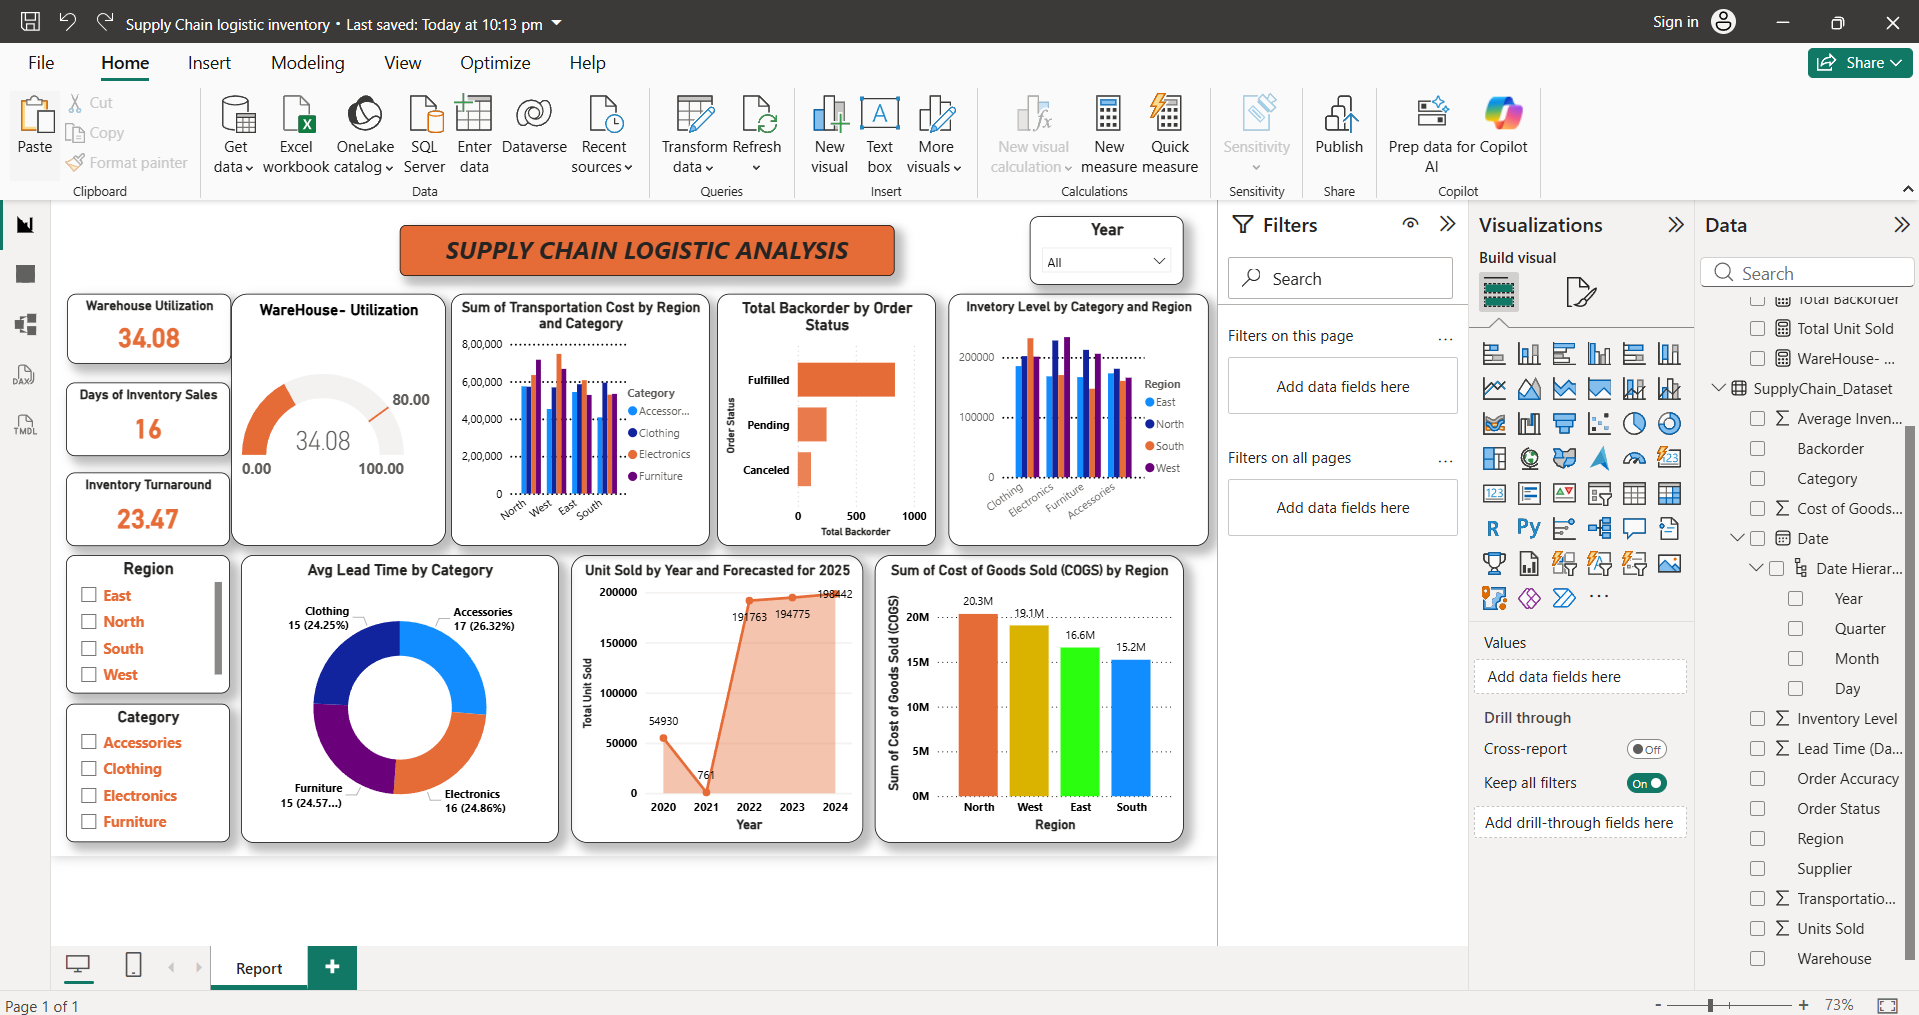

What the dashboard file says about the page in this screenshot:
{"tool":"powerbi","page":{"name":"Report","canvas":[1280,720],"ordinal":0},"visuals":[{"type":"card","title":"Warehouse Utilization","fields":{"Values":["All measure.WareHouse- Utiliz"]},"box":[17.8,102.9,179.8,76.8],"z":0},{"type":"card","title":"Days of Inventory Sales","fields":{"Values":["All measure.Days of Inventory Sales"]},"box":[16.5,200.3,179.8,81],"z":1000},{"type":"card","title":"Inventory Turnaround","fields":{"Values":["All measure.Inventory Turnover Ratio"]},"box":[16.5,299.1,179.8,81],"z":2000},{"type":"slicer","title":"Region","fields":{"Values":["SupplyChain_Dataset.Region"]},"box":[16.5,389.7,179.8,152.3],"z":3000},{"type":"slicer","title":"Category","fields":{"Values":["SupplyChain_Dataset.Category"]},"box":[16.5,553,179.8,152.3],"z":4000},{"type":"gauge","title":"WareHouse- Utilization","fields":{"Y":["All measure.WareHouse- Utiliz"]},"box":[197.6,102.9,236,277.2],"z":5000},{"type":"clusteredColumnChart","fields":{"Y":["Sum(SupplyChain_Dataset.Transportation Cost)"],"Category":["SupplyChain_Dataset.Region"],"Series":["SupplyChain_Dataset.Category"]},"box":[439.1,102.9,284,277.2],"z":6000},{"type":"lineChart","title":"Unit Sold by Year and Forecasted for 2025","fields":{"Category":["SupplyChain_Dataset.Date.Variation.Date Hierarchy.Year"],"Y":["All measure.Total Unit Sold"]},"box":[581.5,389.7,320.9,316.1],"z":7000},{"type":"donutChart","fields":{"Y":["All measure.Avg Lead Time"],"Category":["SupplyChain_Dataset.Category"]},"box":[208.6,389.7,348.5,315.6],"z":8000},{"type":"clusteredBarChart","fields":{"Y":["All measure.Total Backorder"],"Category":["SupplyChain_Dataset.Order Status"]},"box":[731.4,102.9,240.1,277.2],"z":9000},{"type":"clusteredColumnChart","fields":{"Y":["Sum(SupplyChain_Dataset.Cost of Goods Sold (COGS))"],"Category":["SupplyChain_Dataset.Region"]},"box":[925.3,389.7,337.8,316.1],"z":10000},{"type":"clusteredColumnChart","fields":{"Series":["SupplyChain_Dataset.Region"],"Category":["SupplyChain_Dataset.Category"],"Y":["All measure.Invetory Level"]},"box":[983.2,102.5,284.7,277.5],"z":11000},{"type":"textbox","box":[382.8,27.4,543.4,56.3],"z":12000},{"type":"slicer","title":"Year","fields":{"Values":["SupplyChain_Dataset.Date.Variation.Date Hierarchy.Year"]},"box":[1074.4,17.8,168.8,75.5],"z":13000}]}

Visuals, with their boxes on the page's 1280x720 design canvas (x1, y1, x2, y2). These are canvas units, not pixel positions in the 1919x1015 screenshot, which may show the page scaled, cropped or inside an application window:
"Warehouse Utilization" card: <region>18, 103, 198, 180</region>
"Days of Inventory Sales" card: <region>16, 200, 196, 281</region>
"Inventory Turnaround" card: <region>16, 299, 196, 380</region>
"Region" slicer: <region>16, 390, 196, 542</region>
"Category" slicer: <region>16, 553, 196, 705</region>
"WareHouse- Utilization" gauge: <region>198, 103, 434, 380</region>
clusteredColumnChart - Sum(SupplyChain_Dataset.Transportation Cost) x SupplyChain_Dataset.Region: <region>439, 103, 723, 380</region>
"Unit Sold by Year and Forecasted for 2025" lineChart: <region>582, 390, 902, 706</region>
donutChart - All measure.Avg Lead Time x SupplyChain_Dataset.Category: <region>209, 390, 557, 705</region>
clusteredBarChart - All measure.Total Backorder x SupplyChain_Dataset.Order Status: <region>731, 103, 972, 380</region>
clusteredColumnChart - Sum(SupplyChain_Dataset.Cost of Goods Sold (COGS)) x SupplyChain_Dataset.Region: <region>925, 390, 1263, 706</region>
clusteredColumnChart - SupplyChain_Dataset.Region x SupplyChain_Dataset.Category: <region>983, 102, 1268, 380</region>
textbox: <region>383, 27, 926, 84</region>
"Year" slicer: <region>1074, 18, 1243, 93</region>
